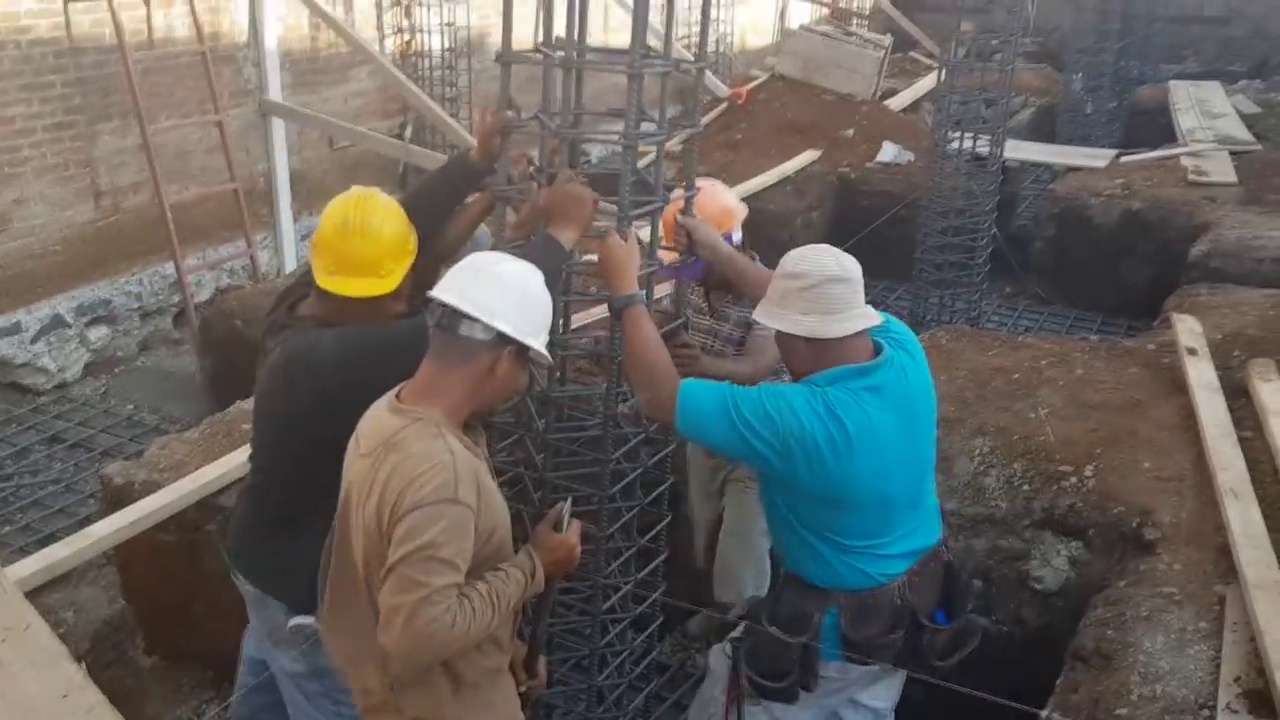helmet: (421, 249, 555, 364), (304, 188, 420, 298), (658, 176, 749, 260)
helmet-off: (744, 247, 888, 382)
helmet-on: (392, 245, 560, 437), (291, 189, 419, 332), (652, 175, 753, 282)
person: (194, 94, 525, 702), (630, 199, 944, 720), (327, 183, 598, 675), (656, 170, 797, 663)
